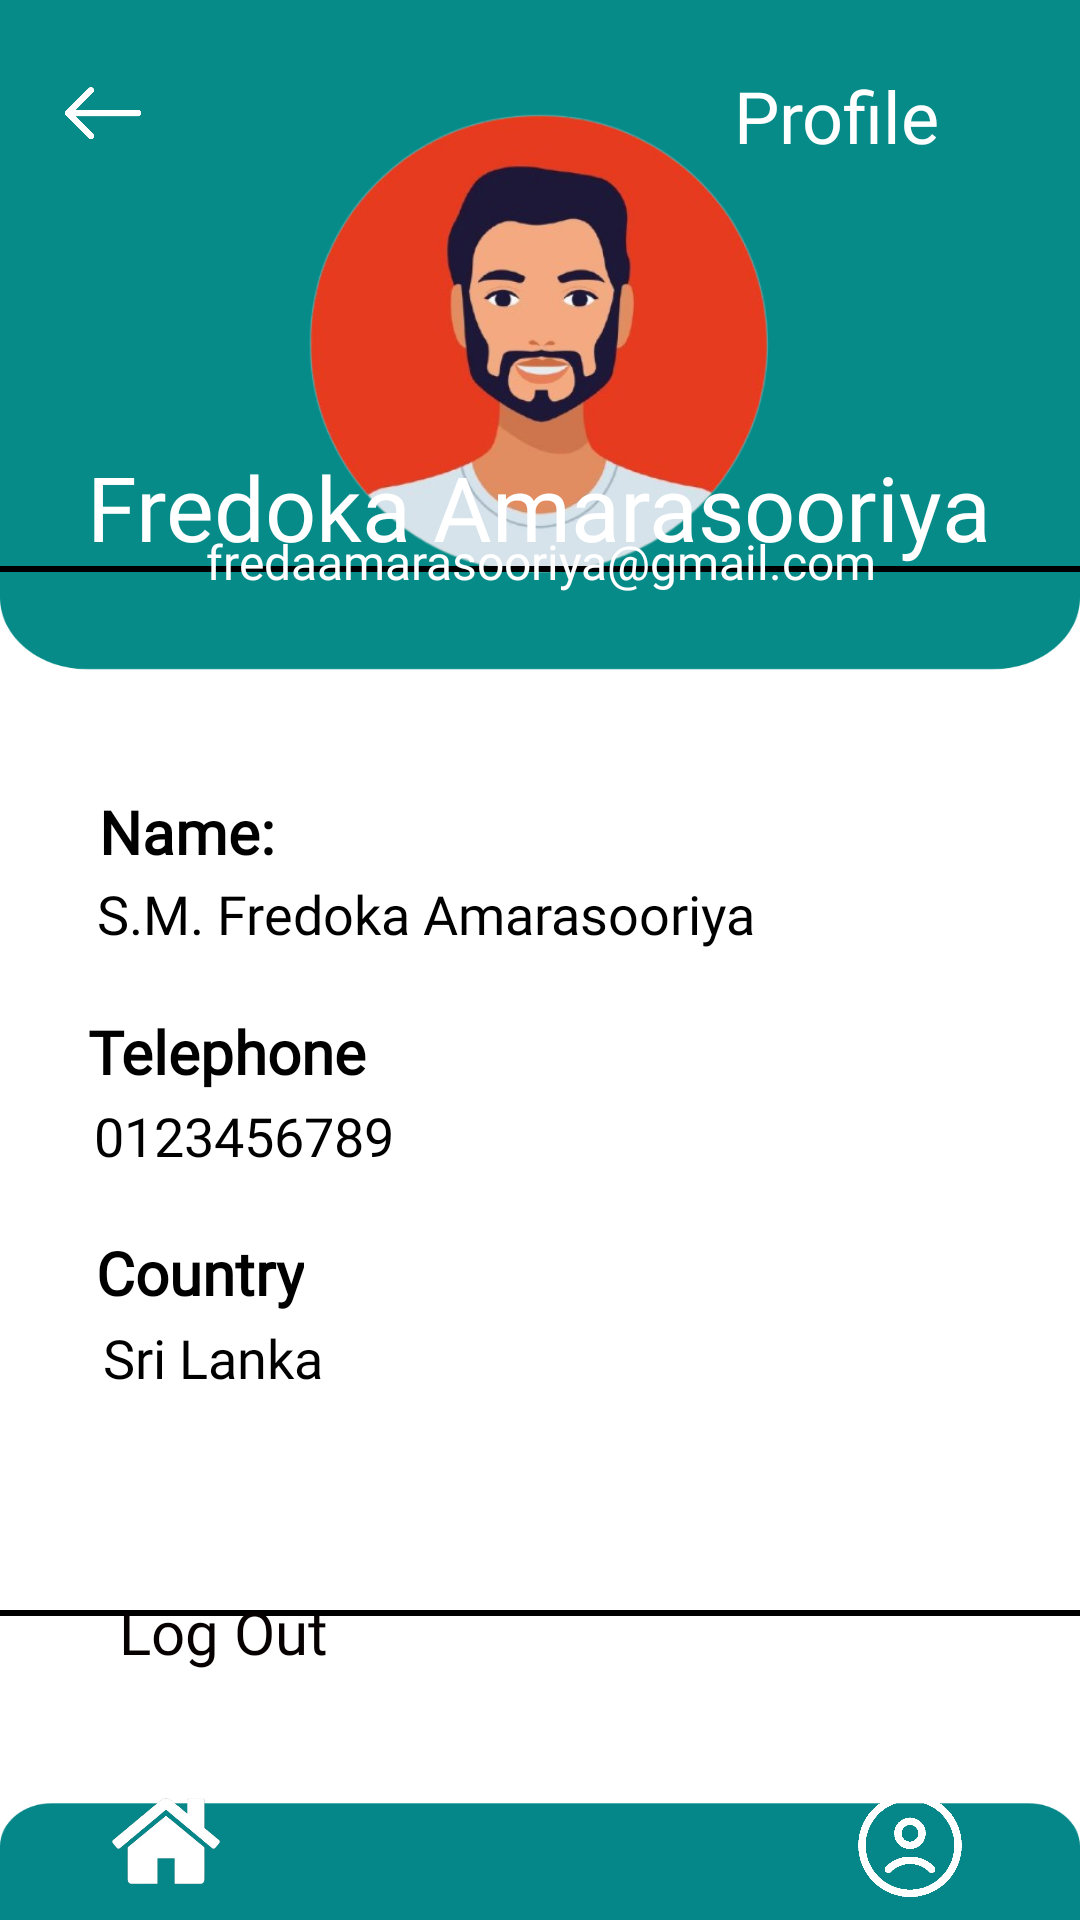

Icons on this 1080px×1920px Android screen, each with its box as [x1,y1,x2,y2]:
Back: [65,87,141,139]
Hme: [112,1778,220,1884]
Profilei: [850,1784,970,1897]
